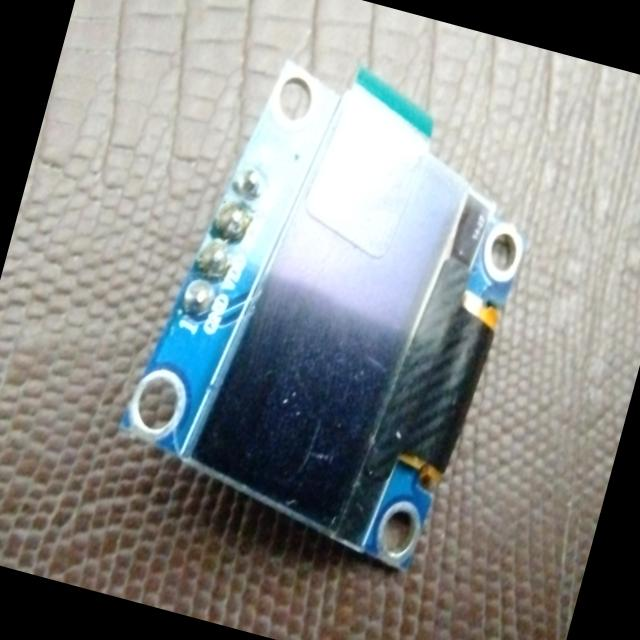oled: (88, 10, 572, 594)
